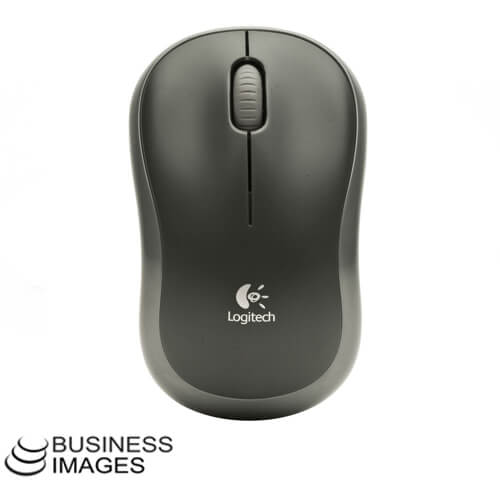logitech-mouse-m185: (121, 19, 368, 419)
